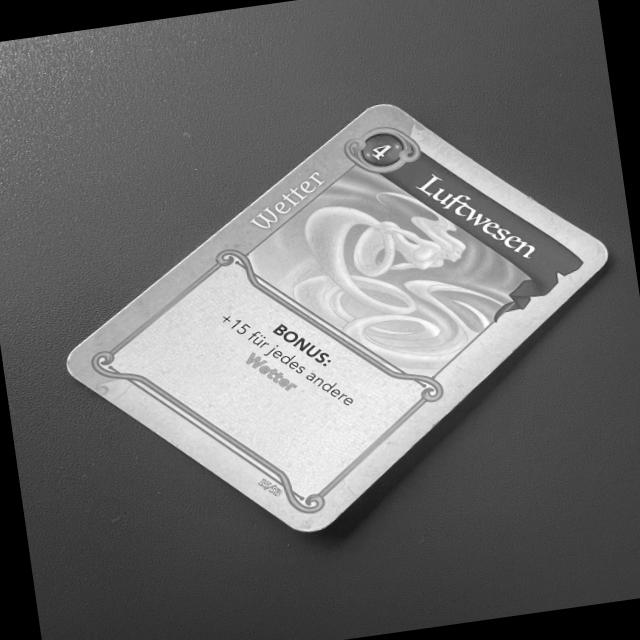Air Elemental: (56, 99, 621, 541)
